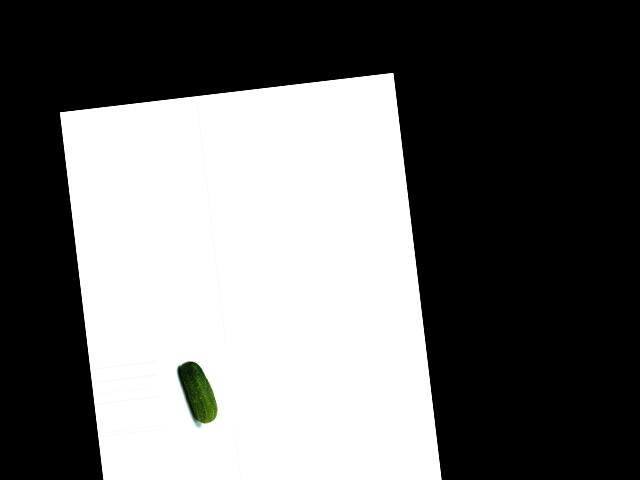cucumber: (177, 359, 218, 425)
